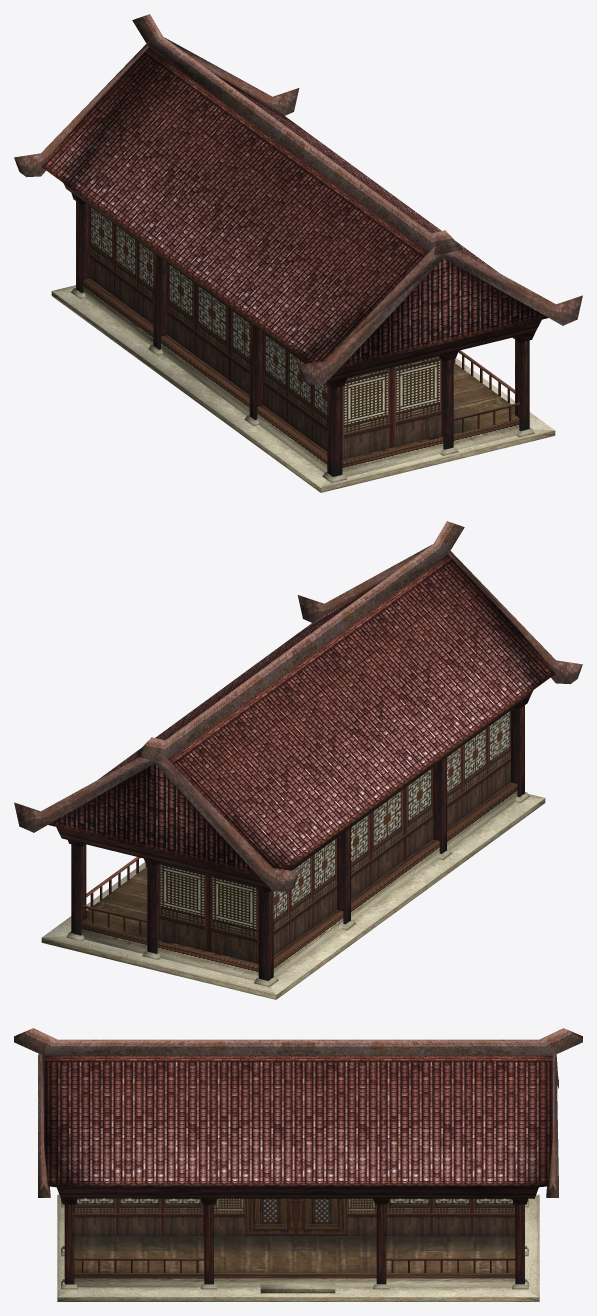
Rendered from a1-033-guesthouse-02_lod_01.fbx.
3 renders of one model, top to bottom at view 1: azimuth 30°, elevation 25°; view 2: azimuth 150°, elevation 25°; view 3: azimuth 270°, elevation 25°, orthographic. The views are drawn at different scales.
Parts seen in each view (by area): view 1: a1-033-guesthouse-01, a1-033-guesthouse-02; view 2: a1-033-guesthouse-01, a1-033-guesthouse-02; view 3: a1-033-guesthouse-01, a1-033-guesthouse-02.
Boxes of the visible parts, x1,y1,x2,y2 form: a1-033-guesthouse-01: (14, 14, 582, 483); a1-033-guesthouse-02: (51, 201, 555, 492); a1-033-guesthouse-01: (14, 521, 582, 987); a1-033-guesthouse-02: (41, 705, 545, 999); a1-033-guesthouse-01: (14, 1028, 582, 1293); a1-033-guesthouse-02: (57, 1194, 539, 1301).
Bounding box in the file's own units: 14.1 × 11.57 × 27.14.
